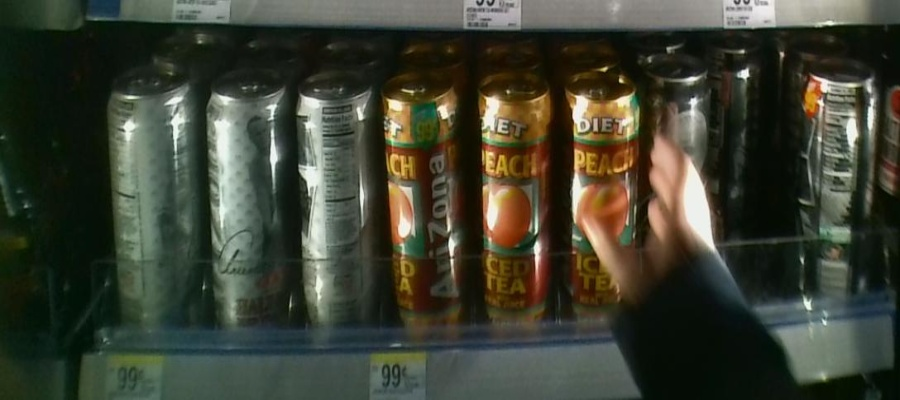bottle: (105, 59, 200, 332), (470, 63, 555, 344), (292, 62, 377, 339), (204, 71, 291, 334), (382, 77, 466, 339), (559, 69, 640, 336), (799, 62, 875, 304), (650, 55, 712, 218), (712, 43, 765, 221)
